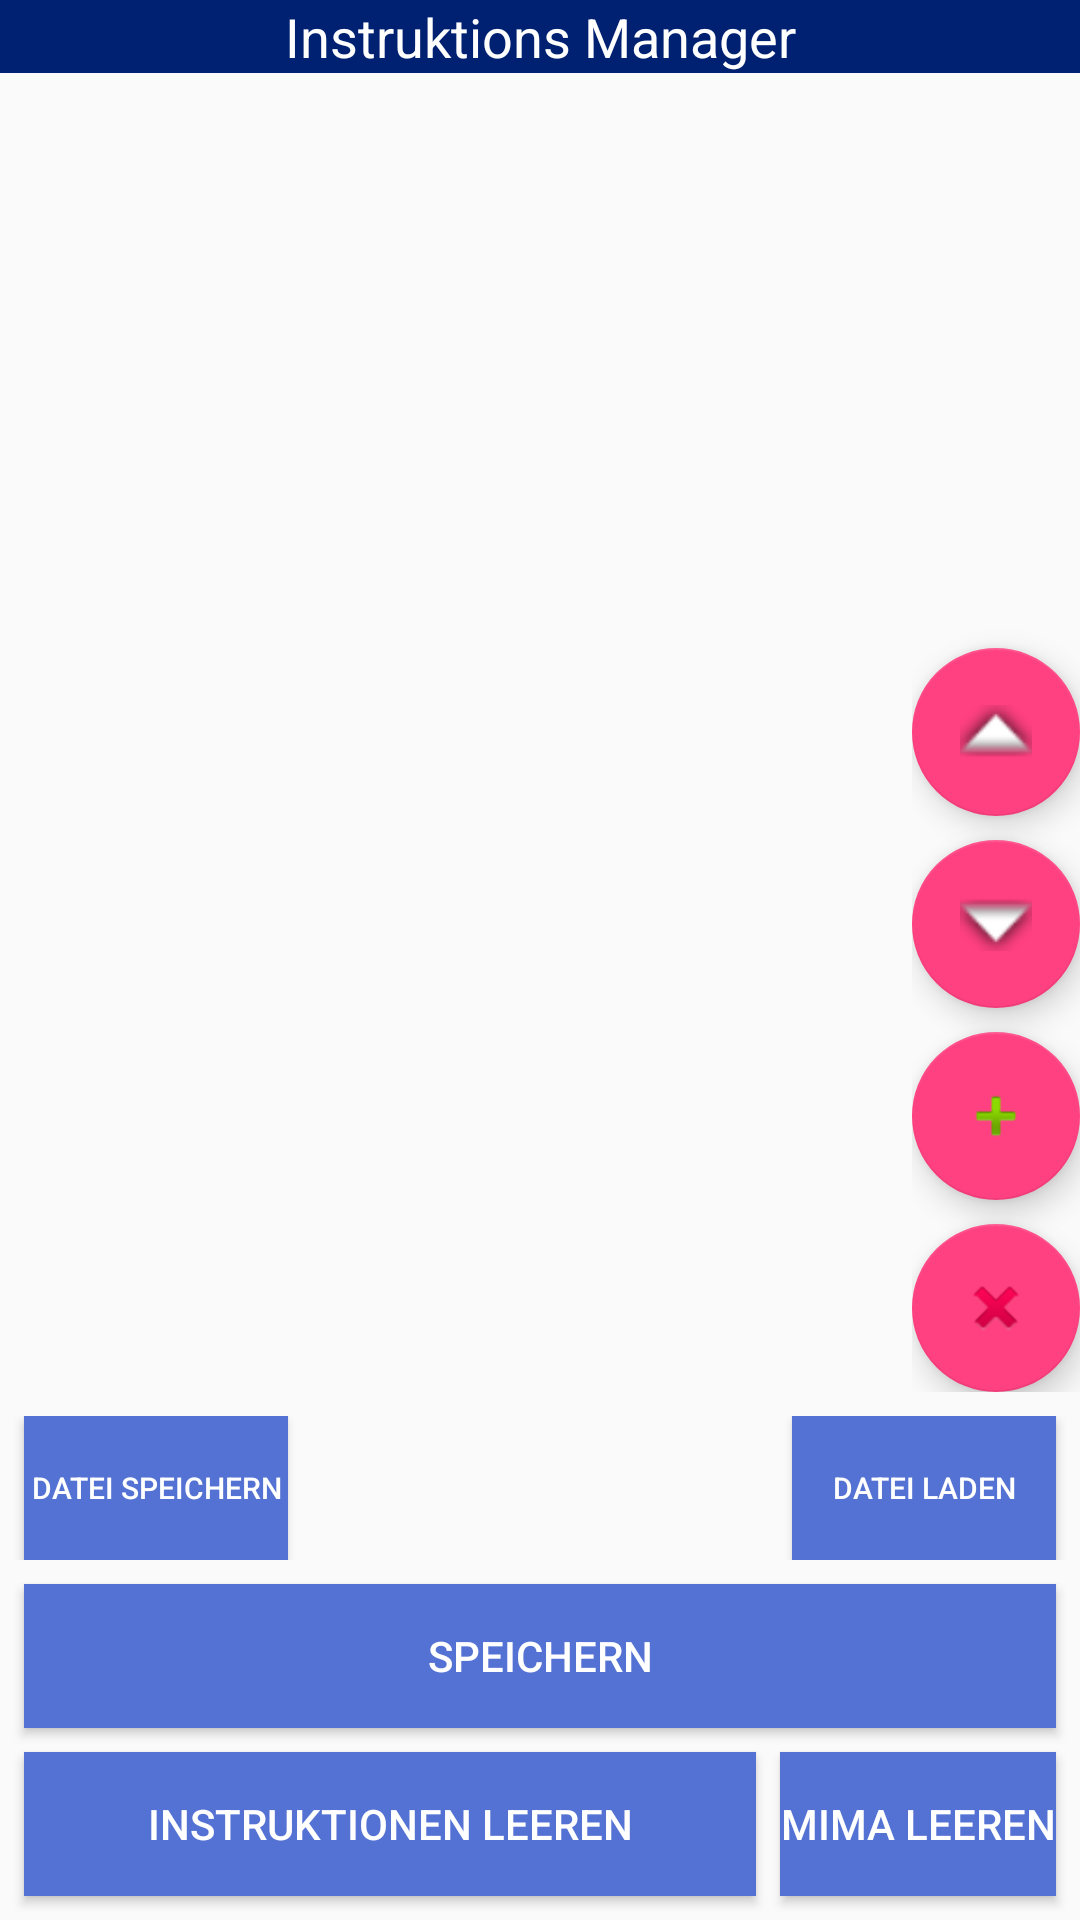

Icons on this 1080 x 1920 Android screen, each with the point to tap as [x,y]:
add: [996,1116]
arrow down float: [996,924]
arrow up float: [996,732]
delete: [996,1308]
